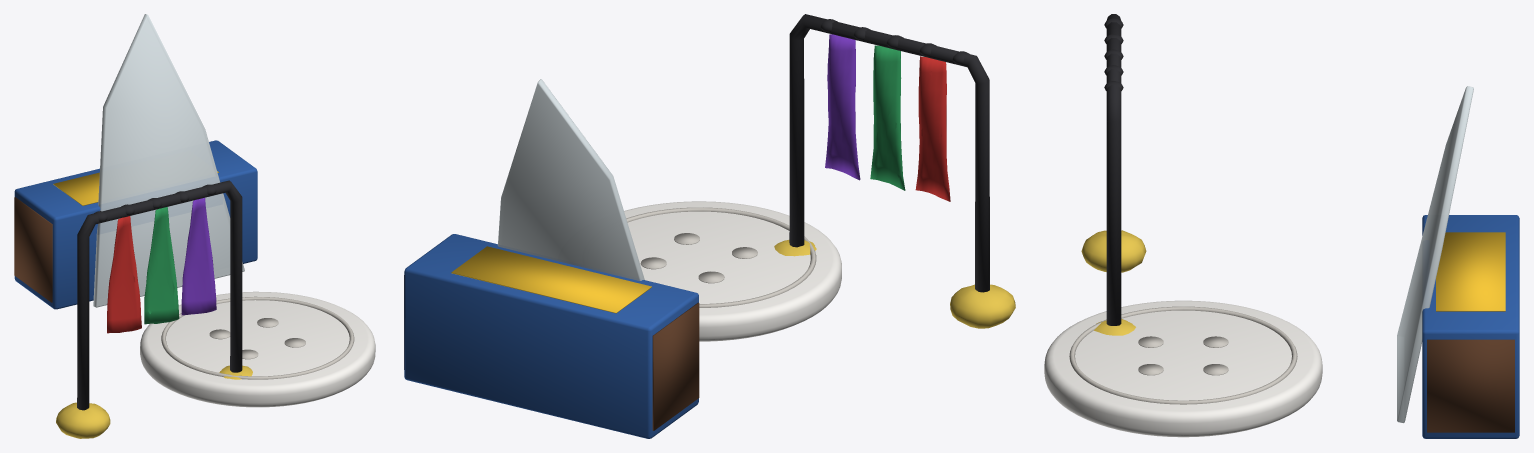
File: training-stylestation.glb
The picture shows the model from 3 angles, left to right: view 1: azimuth 30°, elevation 25°; view 2: azimuth 150°, elevation 25°; view 3: azimuth 270°, elevation 25°; orthographic projection. The views are drawn at different scales.
Parts seen in each view (by area): view 1: StyleStation__Mirror, StyleStation__Button, StyleStation__Matchbox, StyleStation__Rail, StyleStation__Striker, StyleStation__Cape3, StyleStation__Cape1, StyleStation__Cape2, StyleStation__ButtonHoles, StyleStation__RailFeet, StyleStation__MatchLabel; view 2: StyleStation__Matchbox, StyleStation__Button, StyleStation__Mirror, StyleStation__Rail, StyleStation__MatchLabel, StyleStation__Striker, StyleStation__Cape3, StyleStation__Cape1, StyleStation__Cape2, StyleStation__RailFeet, StyleStation__ButtonHoles; view 3: StyleStation__Button, StyleStation__Striker, StyleStation__Matchbox, StyleStation__Mirror, StyleStation__MatchLabel, StyleStation__Rail, StyleStation__ButtonHoles, StyleStation__RailFeet.
Part boxes in pixels (x1=…): StyleStation__Mirror: x1=93, y1=14, x2=244, y2=307; StyleStation__Button: x1=140, y1=291, x2=375, y2=407; StyleStation__Matchbox: x1=14, y1=140, x2=257, y2=309; StyleStation__Rail: x1=77, y1=180, x2=242, y2=410; StyleStation__Striker: x1=14, y1=197, x2=52, y2=302; StyleStation__Cape3: x1=181, y1=197, x2=216, y2=315; StyleStation__Cape1: x1=107, y1=216, x2=141, y2=333; StyleStation__Cape2: x1=144, y1=207, x2=179, y2=324; StyleStation__ButtonHoles: x1=161, y1=296, x2=354, y2=379; StyleStation__RailFeet: x1=56, y1=365, x2=252, y2=438; StyleStation__MatchLabel: x1=53, y1=171, x2=218, y2=205; StyleStation__Matchbox: x1=404, y1=234, x2=698, y2=438; StyleStation__Button: x1=624, y1=201, x2=841, y2=341; StyleStation__Mirror: x1=498, y1=79, x2=644, y2=280; StyleStation__Rail: x1=789, y1=14, x2=989, y2=292; StyleStation__MatchLabel: x1=451, y1=246, x2=651, y2=313; StyleStation__Striker: x1=404, y1=275, x2=699, y2=430; StyleStation__Cape3: x1=825, y1=34, x2=860, y2=180; StyleStation__Cape1: x1=915, y1=56, x2=950, y2=201; StyleStation__Cape2: x1=870, y1=45, x2=905, y2=190; StyleStation__RailFeet: x1=774, y1=240, x2=1015, y2=328; StyleStation__ButtonHoles: x1=626, y1=207, x2=816, y2=307; StyleStation__Button: x1=1044, y1=300, x2=1322, y2=437; StyleStation__Striker: x1=1427, y1=339, x2=1514, y2=432; StyleStation__Matchbox: x1=1422, y1=215, x2=1519, y2=438; StyleStation__Mirror: x1=1397, y1=86, x2=1473, y2=423; StyleStation__MatchLabel: x1=1436, y1=232, x2=1505, y2=311; StyleStation__Rail: x1=1104, y1=14, x2=1123, y2=325; StyleStation__ButtonHoles: x1=1069, y1=306, x2=1297, y2=404; StyleStation__RailFeet: x1=1081, y1=230, x2=1146, y2=335.
Bounding box in the file's own units: 19.49 × 14.52 × 20.5.
